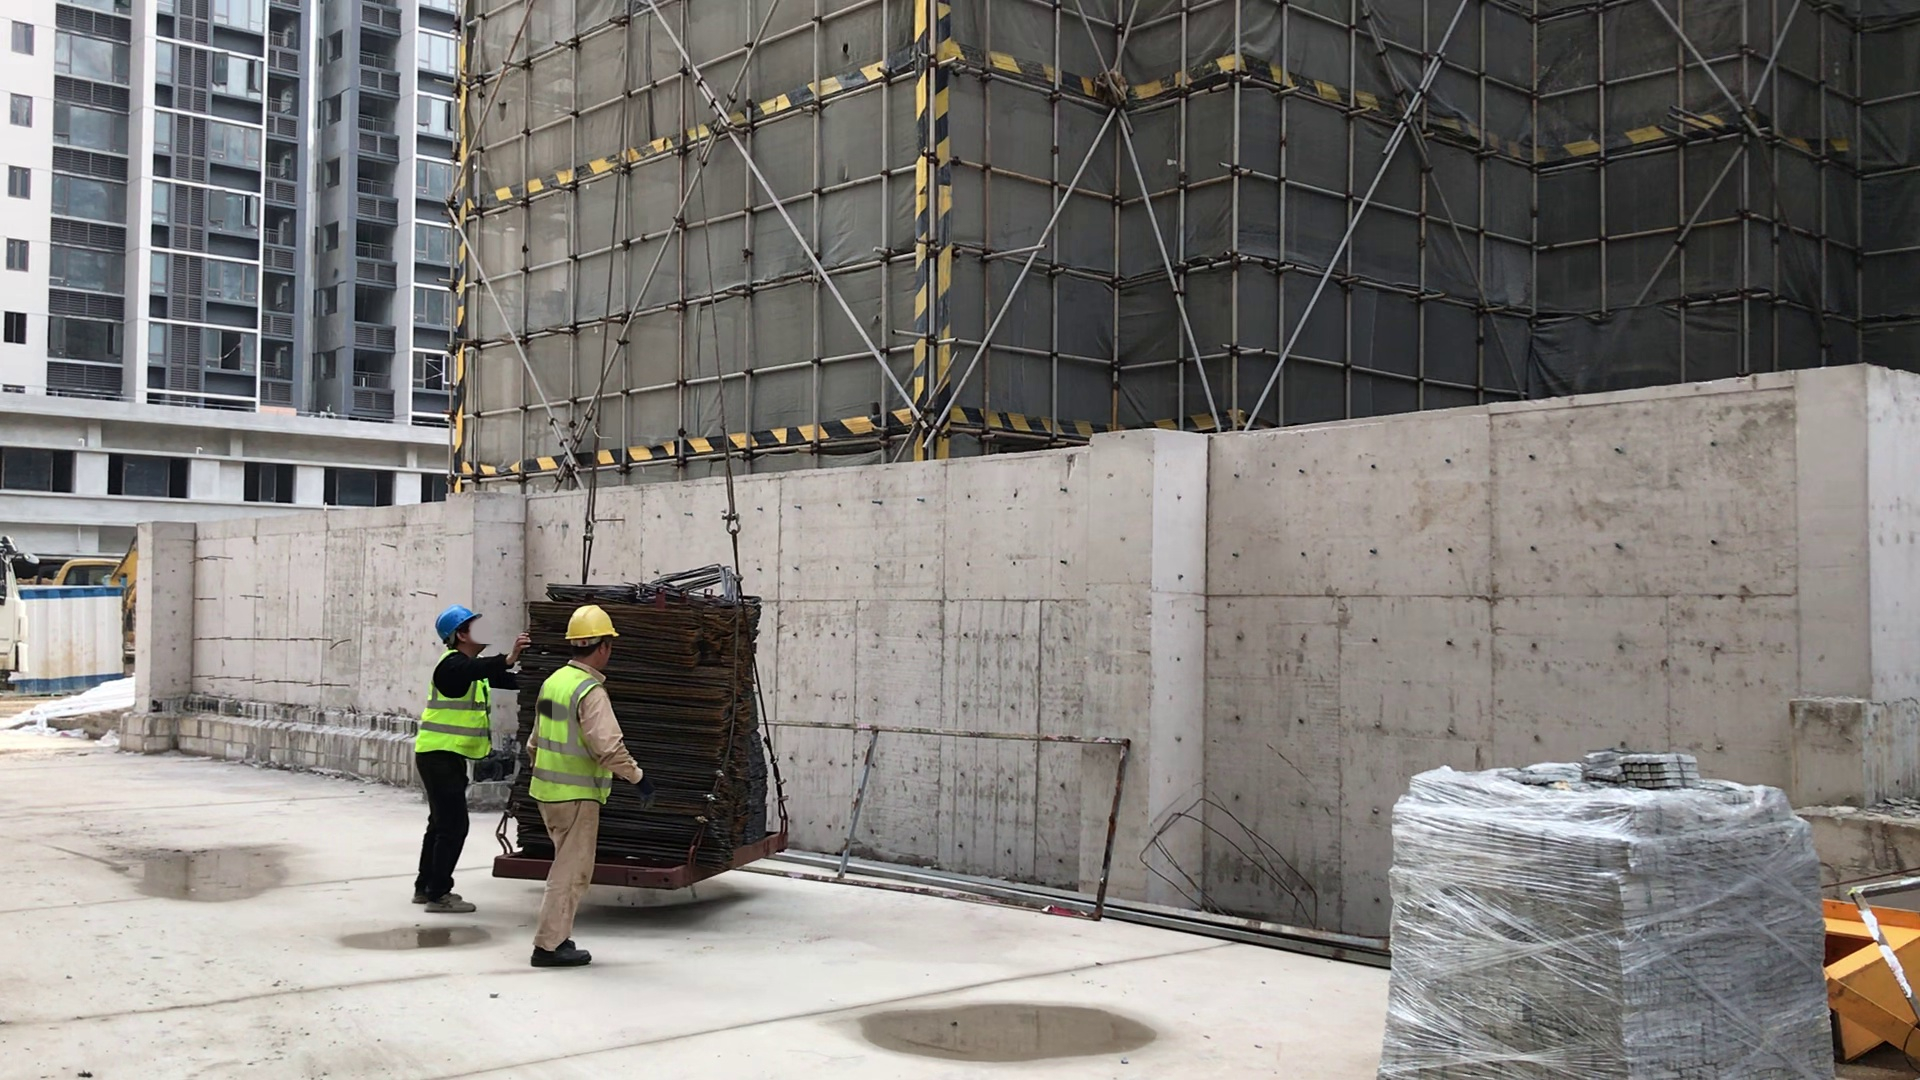helmet: (567, 605, 619, 648), (424, 608, 492, 633)
person: (534, 592, 640, 974), (400, 592, 522, 915)
vest: (533, 668, 625, 802), (422, 657, 498, 764)
